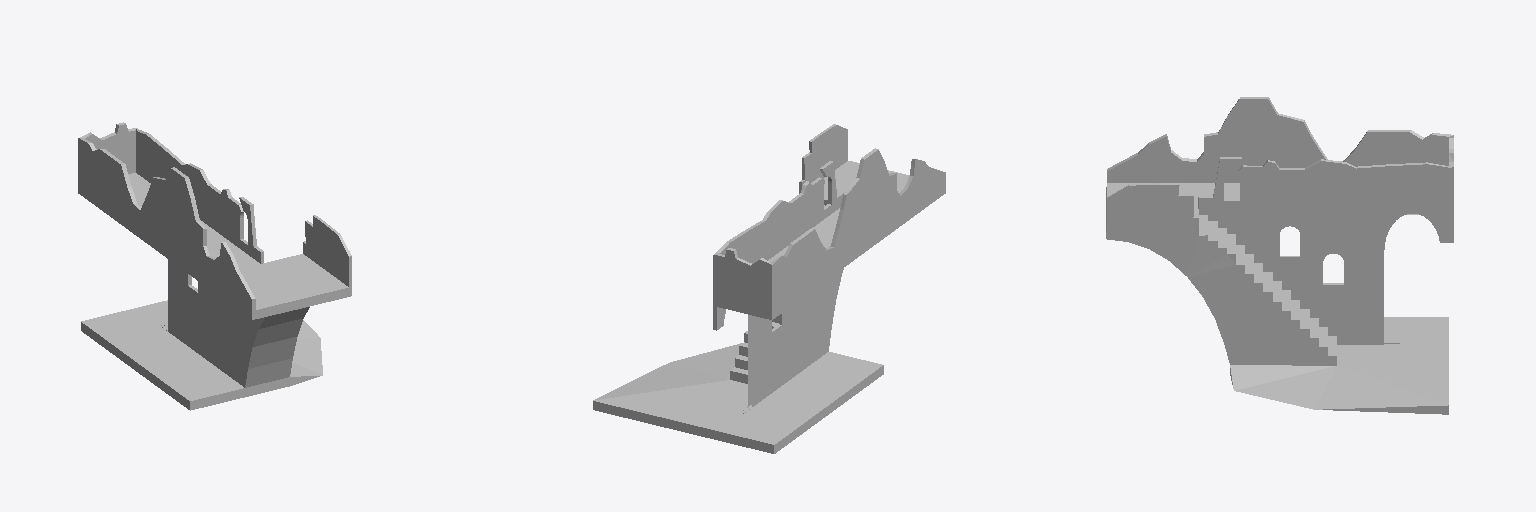
The model's file is osgiliath1.obj.
3 renders of one model, left to right at view 1: azimuth 30°, elevation 25°; view 2: azimuth 150°, elevation 25°; view 3: azimuth 270°, elevation 25°, orthographic.
Visible parts, largest first — view 1: ruin_Plane; view 2: ruin_Plane; view 3: ruin_Plane.
Boxes of the visible parts, <box> form: ruin_Plane: <box>78,122,351,410</box>; ruin_Plane: <box>593,124,945,453</box>; ruin_Plane: <box>1106,97,1453,414</box>.
Size of the model in its own units: 5.62 by 6.75 by 9.29.